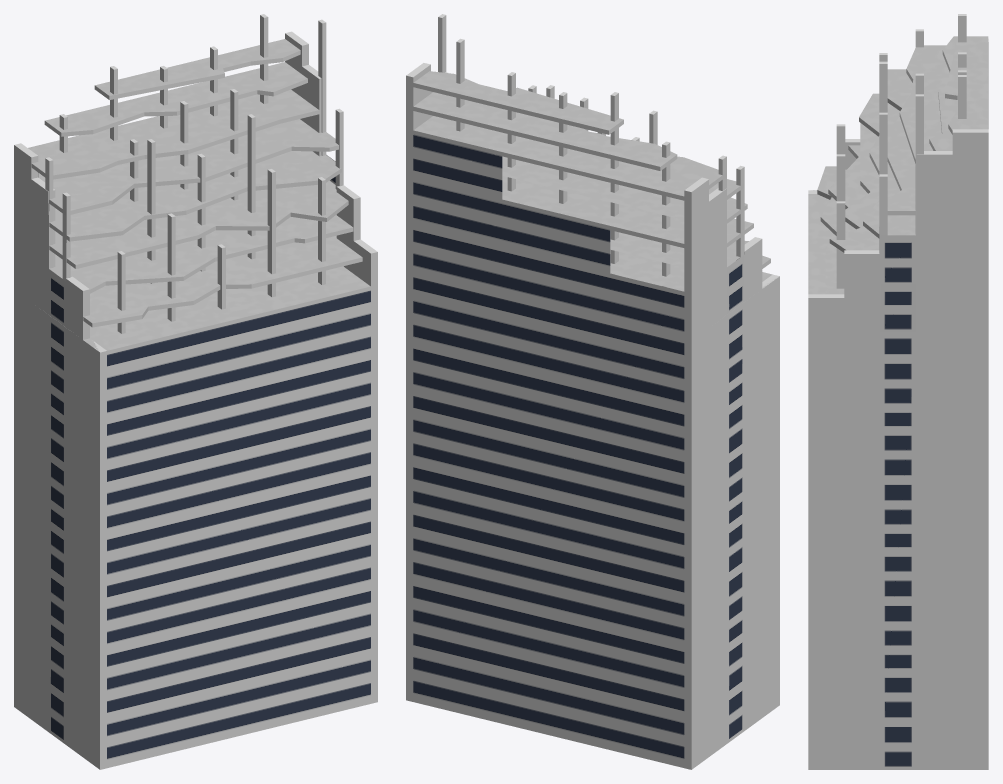
Rendered from Building_DT_H_W2_001.fbx.
3 renders of one model, left to right at view 1: azimuth 30°, elevation 25°; view 2: azimuth 150°, elevation 25°; view 3: azimuth 270°, elevation 25°, orthographic. The views are drawn at different scales.
Parts seen in each view (by area): view 1: Building_DT_H_W2_001; view 2: Building_DT_H_W2_001; view 3: Building_DT_H_W2_001.
Boxes of the visible parts, x1,y1,x2,y2 form: Building_DT_H_W2_001: [14, 14, 377, 769]; Building_DT_H_W2_001: [406, 14, 779, 769]; Building_DT_H_W2_001: [808, 14, 988, 769].
Bounding box in the file's own units: 55.46 × 123 × 29.75.
